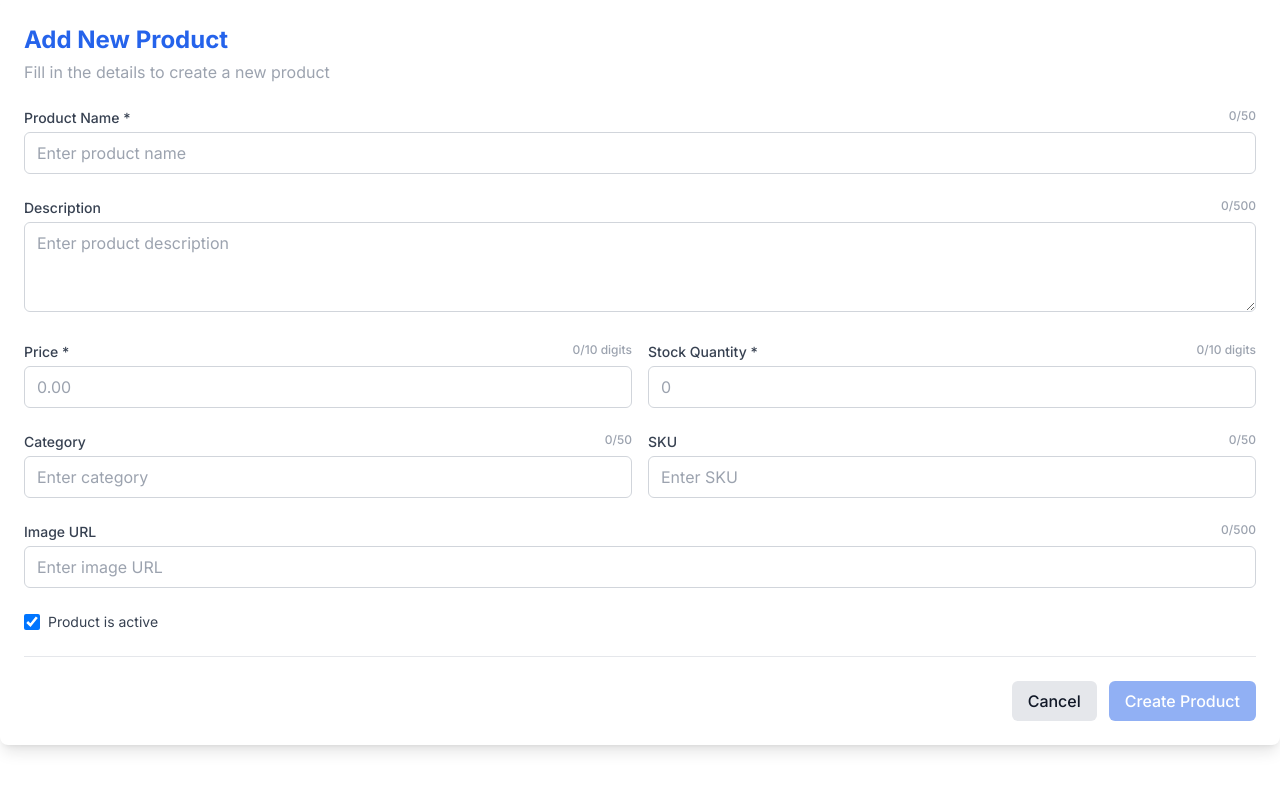
it: ProductForm Component › Form Validation - Character Limits › shows validation error when price exceeds digit limit
Type "12345678901" into the number field labelled "Price * 0/10 digits" at (328, 387), box [24,366,632,408]
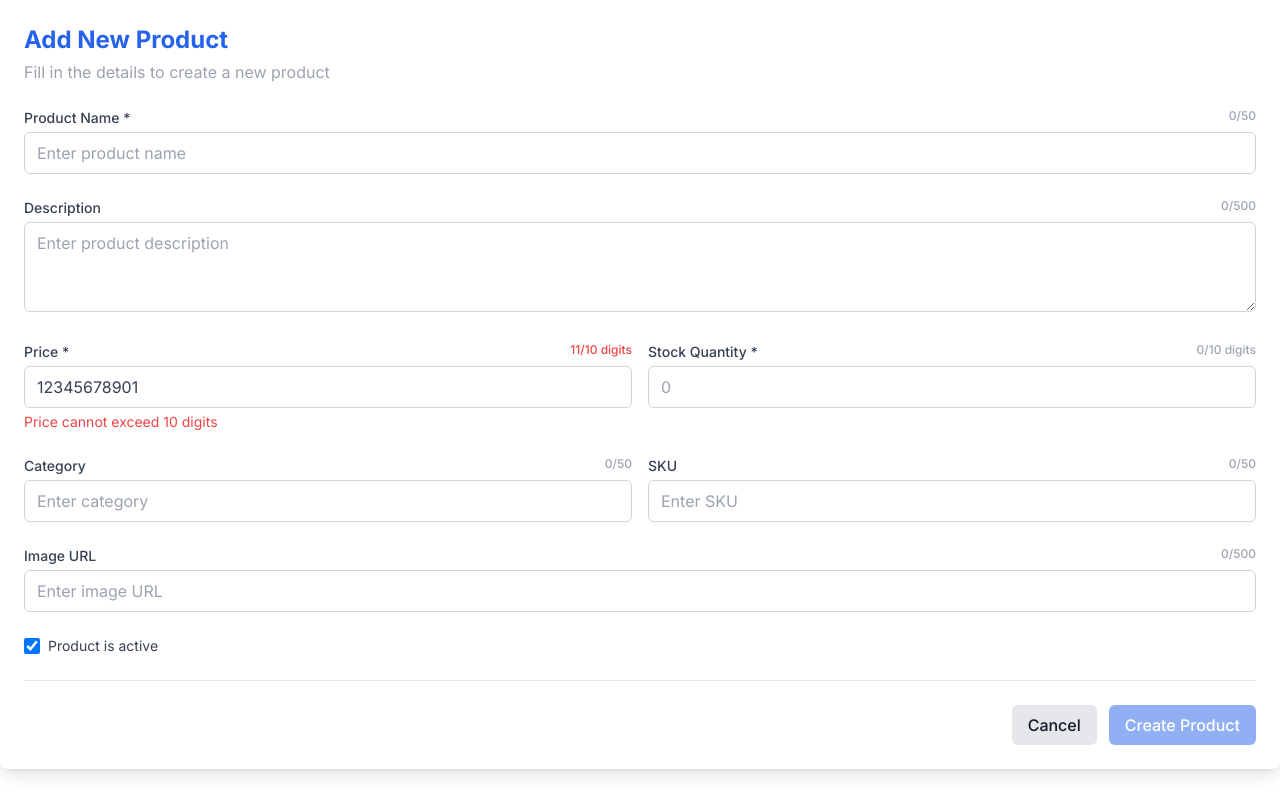
Now the text "Price cannot exceed 10 digits" is shown, box [24,413,218,430]
